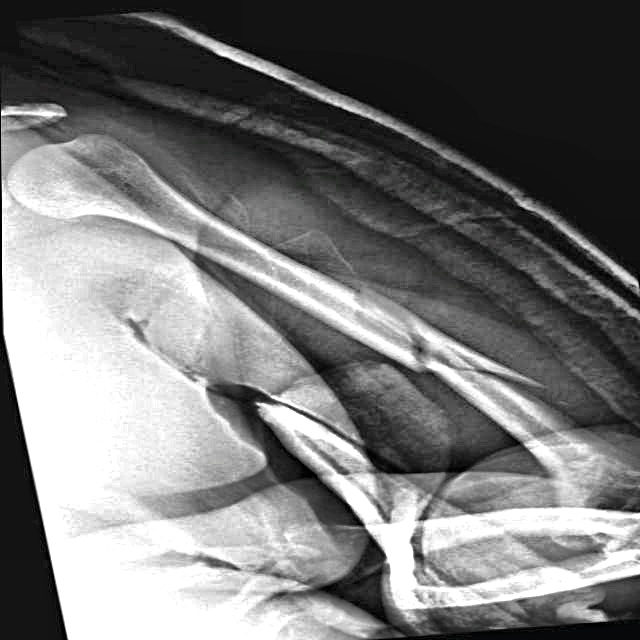Spiral: (315, 272, 552, 399)
